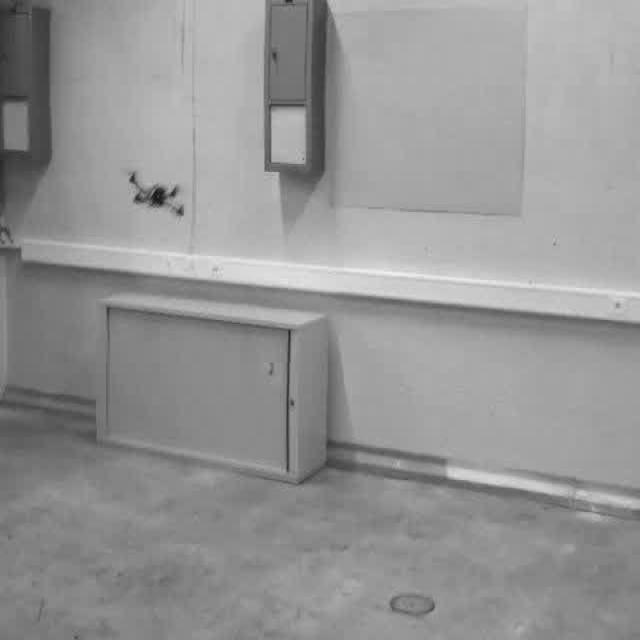drone: (121, 165, 186, 219)
